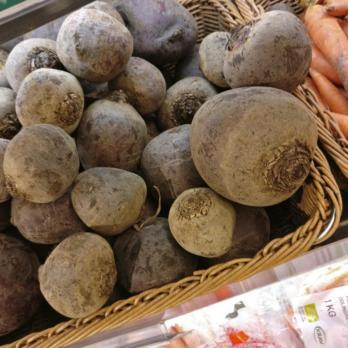beetroot: (54, 0, 229, 261), (0, 127, 97, 319), (188, 78, 320, 208), (221, 9, 312, 89), (0, 38, 57, 121)
